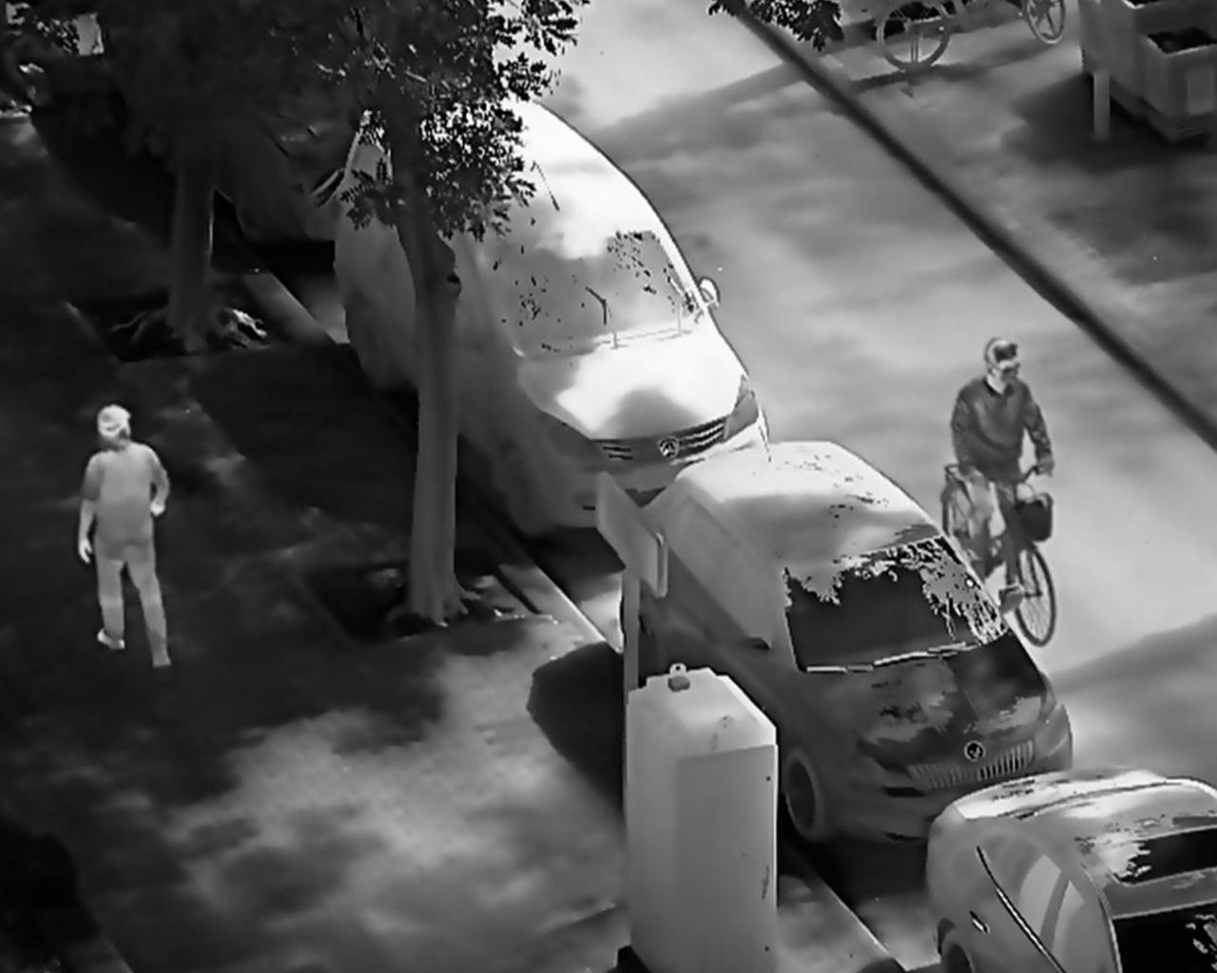person: (945, 334, 1059, 575), (77, 401, 175, 680)
